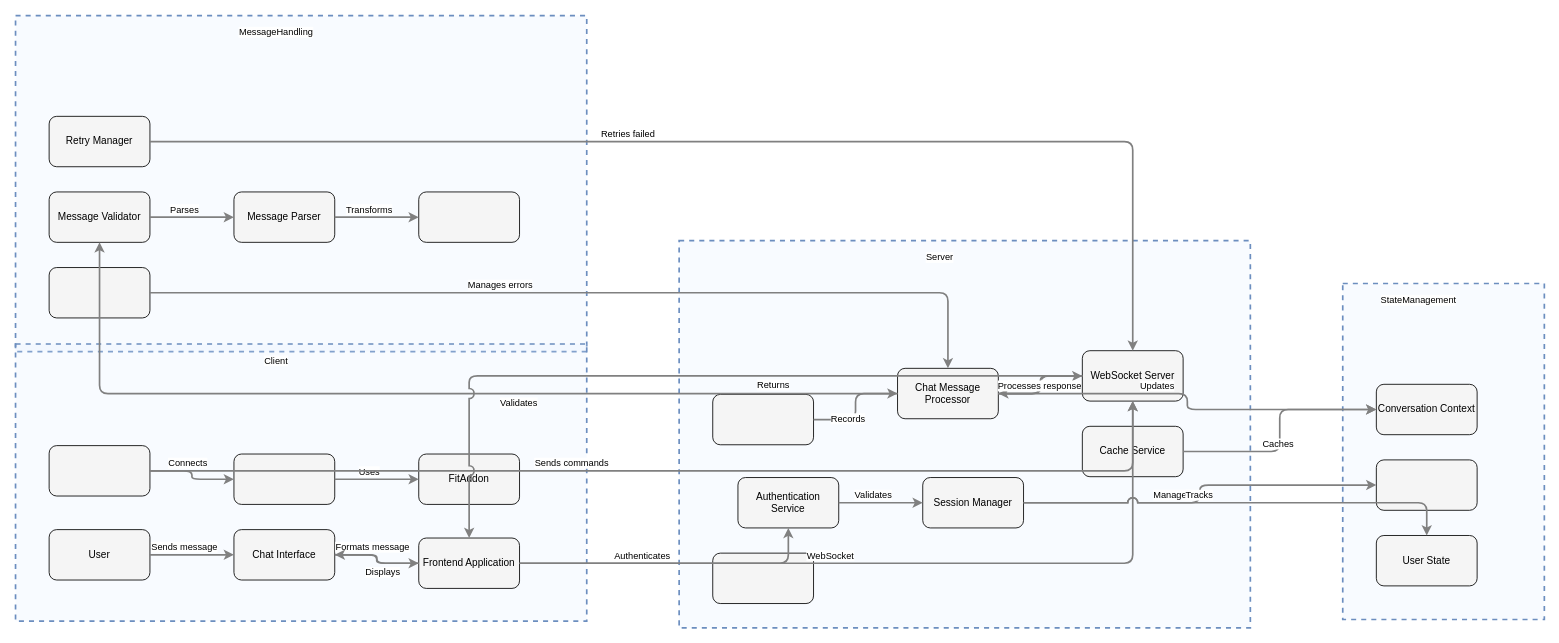
This 1559x643 diagram has some shape labels left out. Here are the shapes that lost their labels. From the top down, the box of each, then its label:
(418, 191, 520, 242): Message Transformer
(48, 267, 150, 318): Error Handler
(712, 394, 814, 445): Logging Service
(48, 445, 150, 496): Terminal UI
(233, 453, 335, 504): xterm.js
(1376, 459, 1477, 510): Session Store
(712, 552, 814, 604): Web Server
